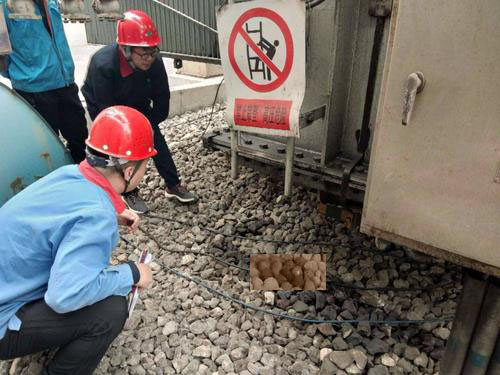oil: (250, 252, 325, 292)
